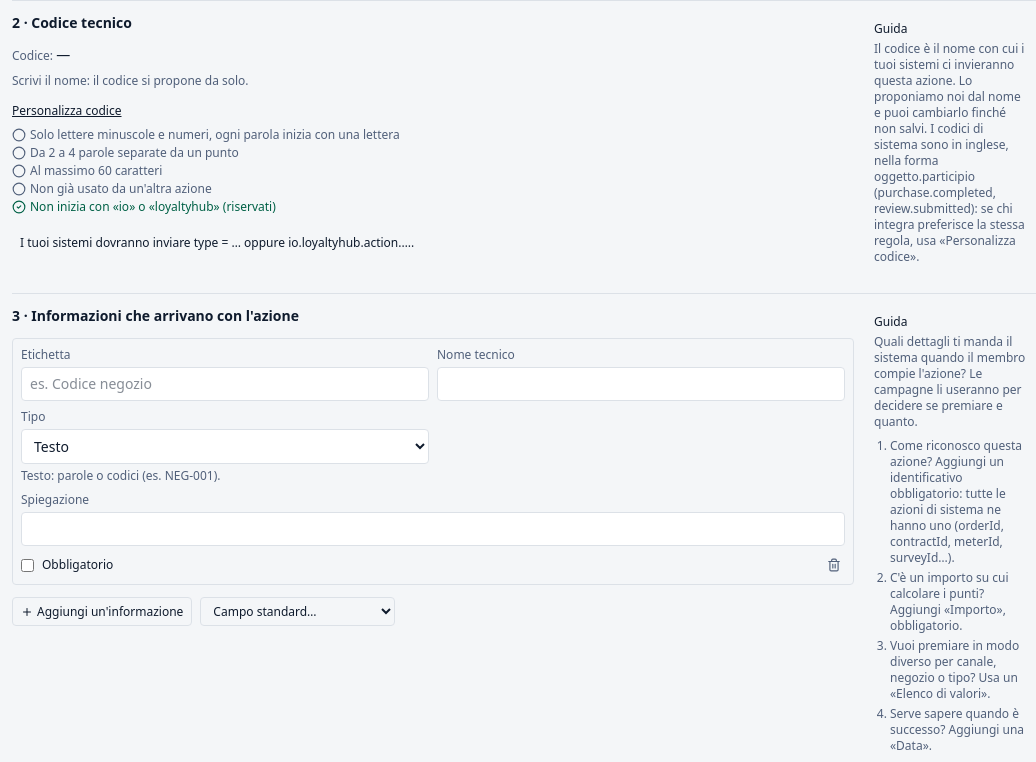
Scenario: ActionTypeEditor: nuova azione › blocca i nomi che fanno pensare a dati personali
This screenshot has width=1036, height=762.
(page scrolled)
In the field named "Etichetta 1": (225, 384) left=21, top=367, right=429, bottom=401, type "Email del membro"
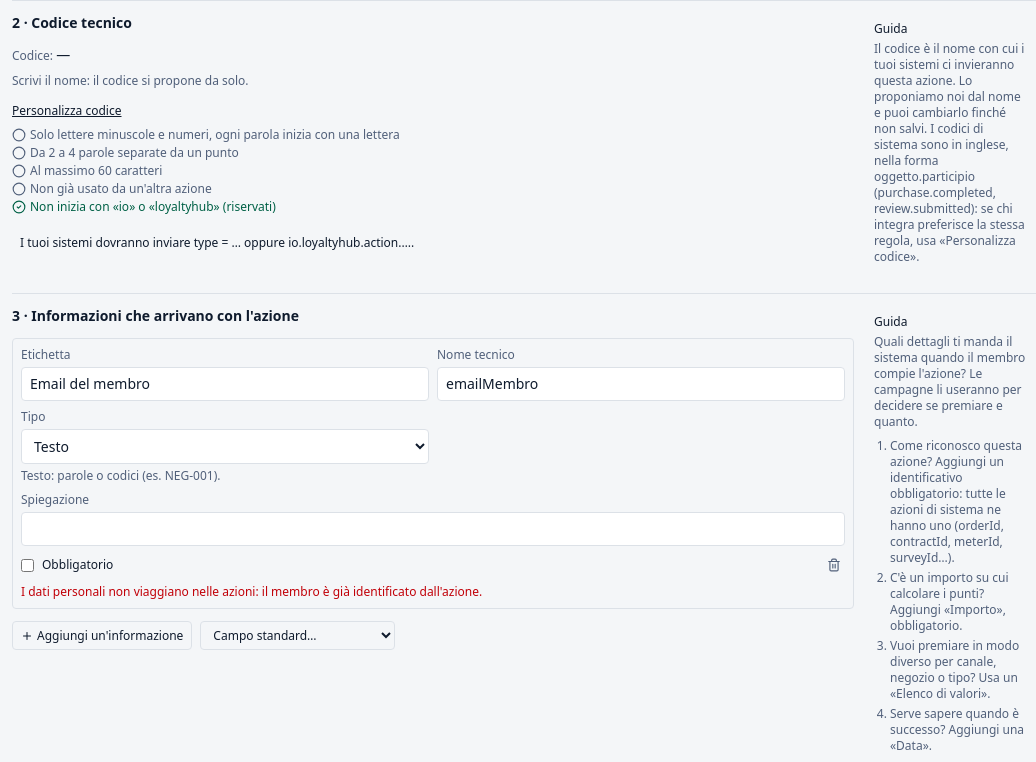
Now the text "I dati personali non viaggiano nelle azioni: il membro è già identificato dall'azione." is shown, box left=21, top=583, right=482, bottom=600
